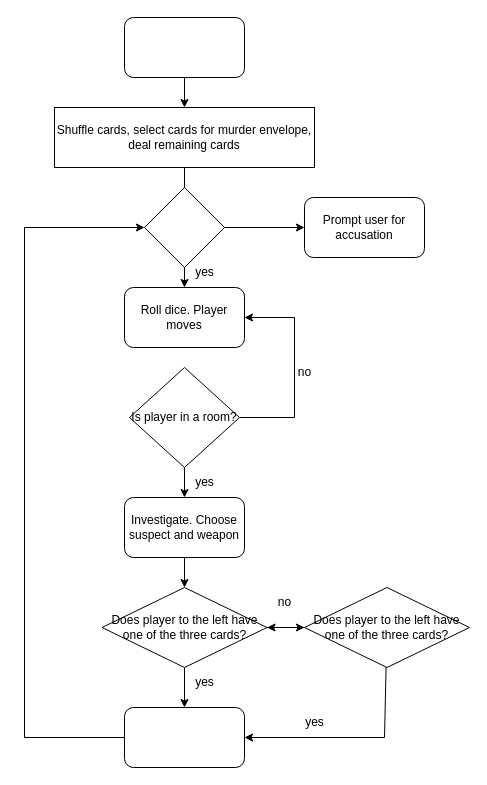
Image size: 487x785. Some labels were removed from this diagram. Here are the shapes that lost their labels. From the top down, the box of each, then its label:
(124, 16, 244, 78): Start game
(144, 186, 224, 268): Is time < 24?
(124, 706, 244, 768): Mark card onto investigation notebook
